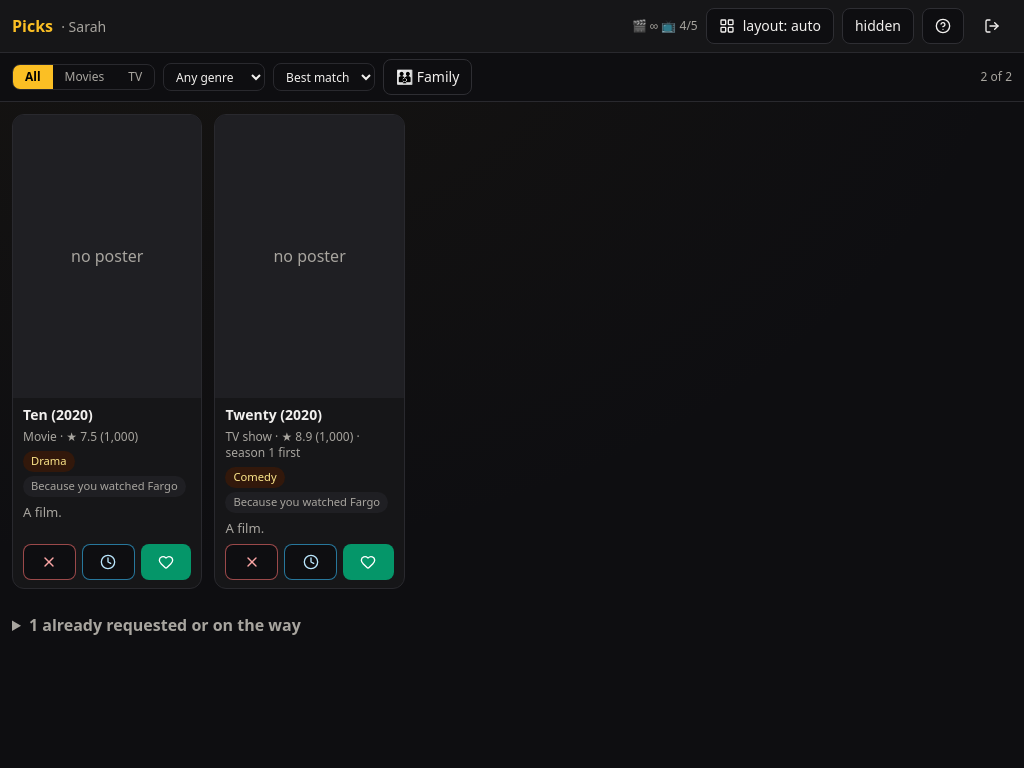
it: MePage › never hides the title, records the position it held, and undo brings it back
Expected: the text "Ten (2020)" is shown, [23,405,93,424]
Click the button named "Reject: Twenty" at (252, 562), box [225,544,278,580]
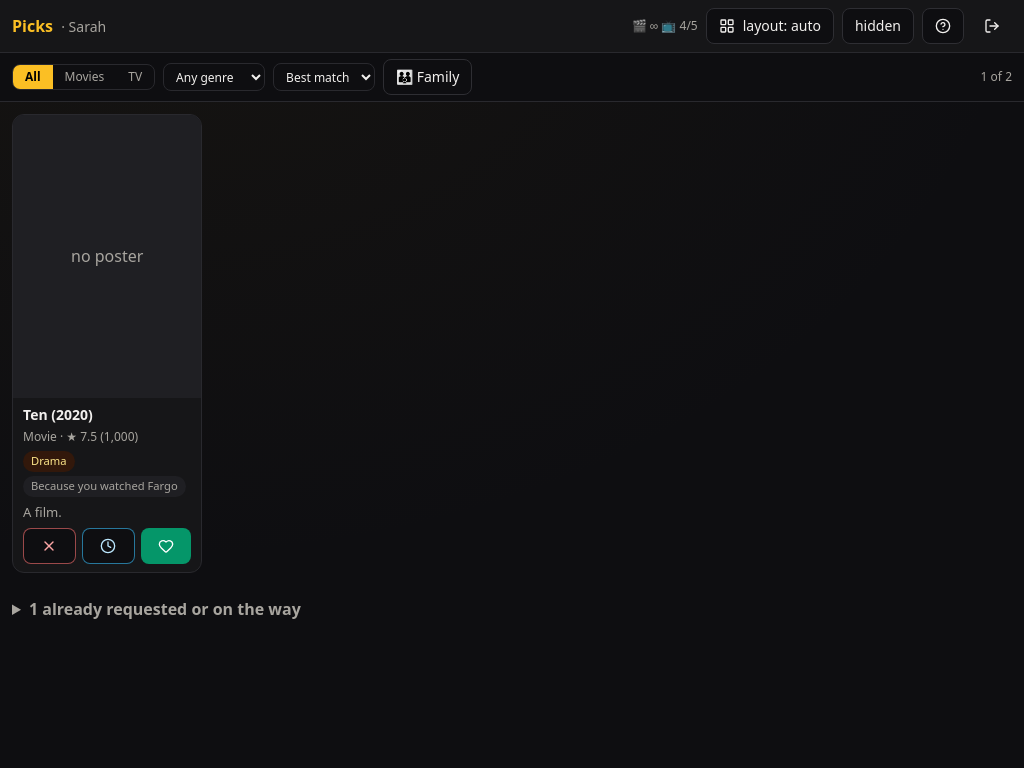
Result: the text "Twenty (2020)" is gone
